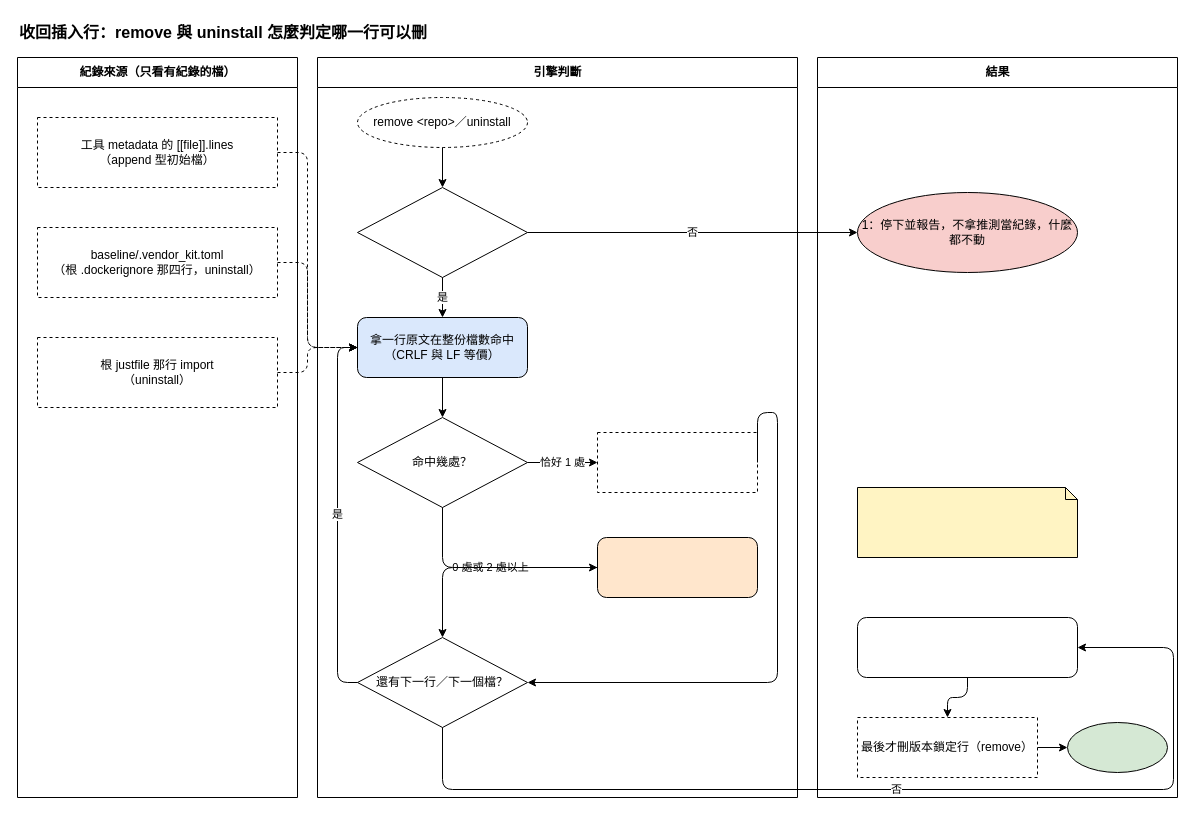
This 1199x815 diagram has some shape labels left out. Here are the shapes that lost their labels. From the top down, the centre of each, then its label:
At point 442,232: "紀錄在、且還原得出誰寫了哪些行？".
At point 677,462: "刪這一行".
At point 967,522: "一行對不上不會讓整批放棄：找得到的照樣收回".
At point 677,567: "不刪；warn 檔名與找到幾處".
At point 967,647: "檔本身永不刪（含整份建出的初始檔）：印清單".
At point 1117,747: "0（含 warn）".
